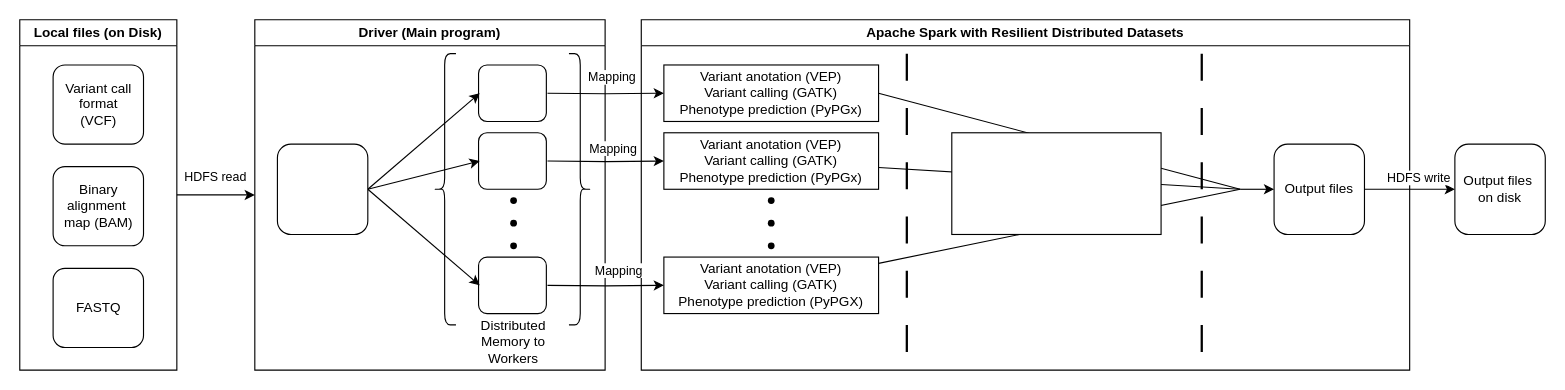
Image size: 1565x390. Some labels were removed from this diagram. The centre of each missing label's shape, as x and y in pixels:
Cluster Manager: (x=322, y=188)
File 1: (x=511, y=92)
File 2: (x=511, y=160)
File N: (x=511, y=285)
Shuffling, Sorting, and Reducing (by Chromosome, position): (x=1056, y=183)
